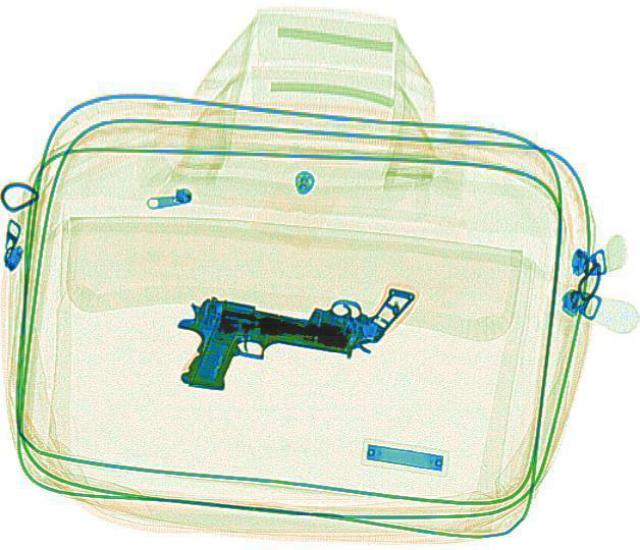Gun: (158, 288, 362, 409), (214, 260, 414, 362)
